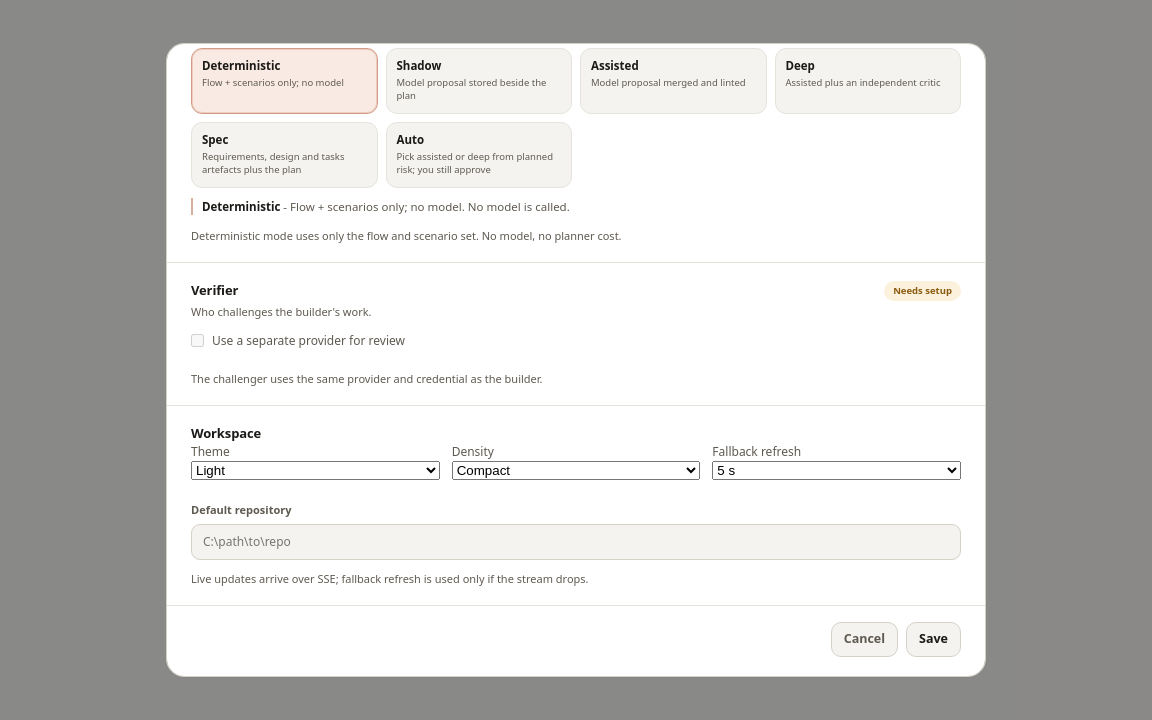
SettingsDialog › marks the read-only mode and reports a save failure
(page scrolled)
Click the button "Save" at point(934, 639), box [906,622,961,657]
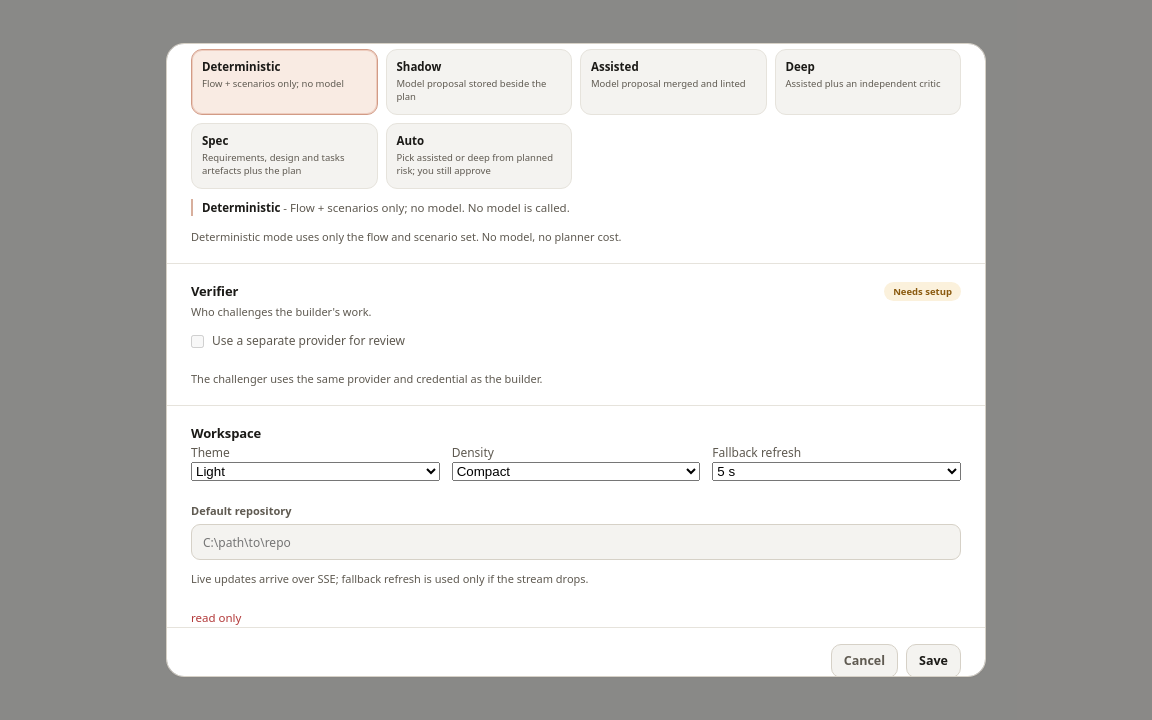
Expected: the text "read only" is shown, [191,610,241,625]
